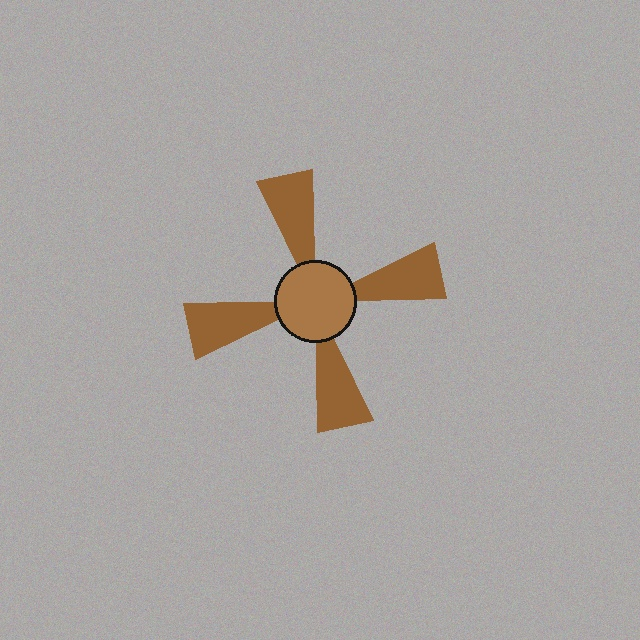fan: (156, 142, 474, 460)
